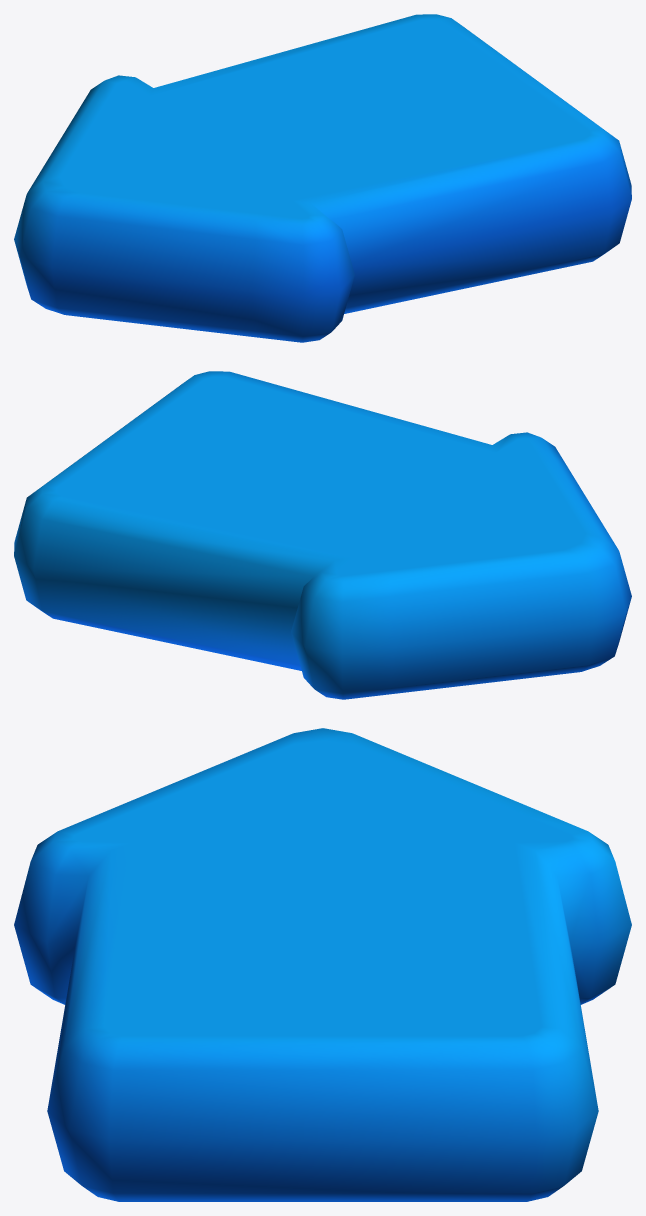
Rendered from Arrow.FBX.
3 renders of one model, top to bottom at view 1: azimuth 30°, elevation 25°; view 2: azimuth 150°, elevation 25°; view 3: azimuth 270°, elevation 25°, orthographic. The views are drawn at different scales.
Parts seen in each view (by area): view 1: Arrow; view 2: Arrow; view 3: Arrow.
Boxes of the visible parts, x1=… form: Arrow: x1=14, y1=14, x2=631, y2=342; Arrow: x1=14, y1=371, x2=631, y2=699; Arrow: x1=14, y1=728, x2=631, y2=1201.
Bounding box in the file's own units: 30.44 × 6.43 × 22.79.
1 material, 1 textured.
